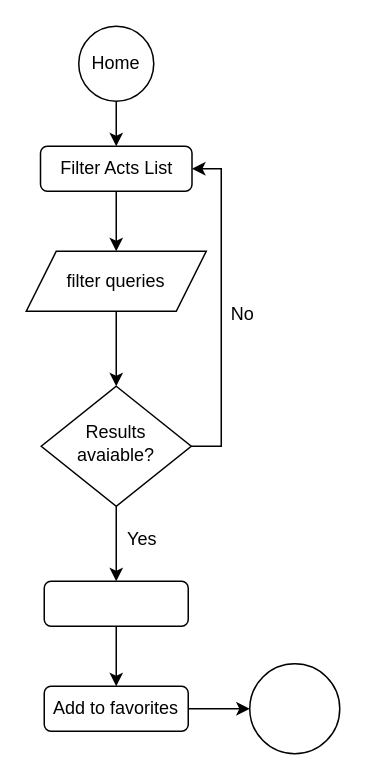
Image size: 366x780. Some labels were removed from this diagram. Each missing label, with the centre of its shape:
"Fav added" goes at point 294,708.
"Results list" goes at point 115,603.
